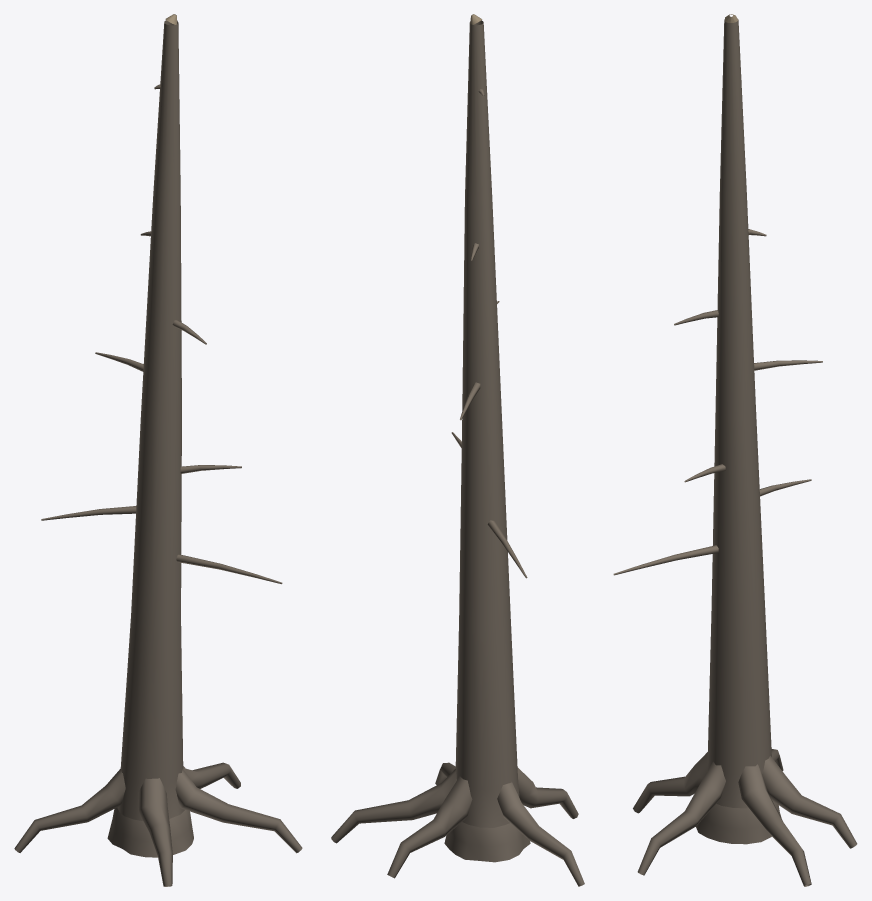
File: snag.glb
3 views of the same model, side by side, from view 1: azimuth 30°, elevation 25°; view 2: azimuth 150°, elevation 25°; view 3: azimuth 270°, elevation 25° (orthographic).
Parts seen in each view (by area): view 1: snag; view 2: snag; view 3: snag.
Boxes of the visible parts, x1,y1,x2,y2 form: snag: (14, 14, 302, 886); snag: (331, 14, 584, 886); snag: (613, 14, 857, 886).
Bounding box in the file's own units: 3.04 × 10.03 × 2.69.
